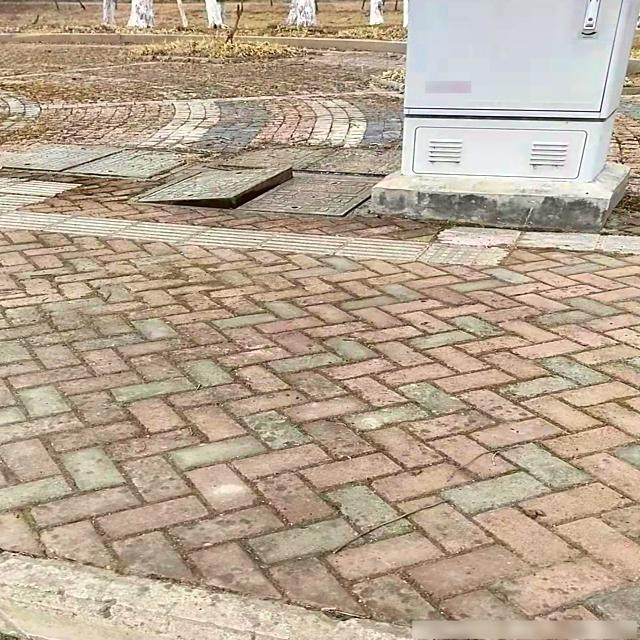good: (0, 142, 206, 187)
uncovered: (131, 165, 388, 216)
